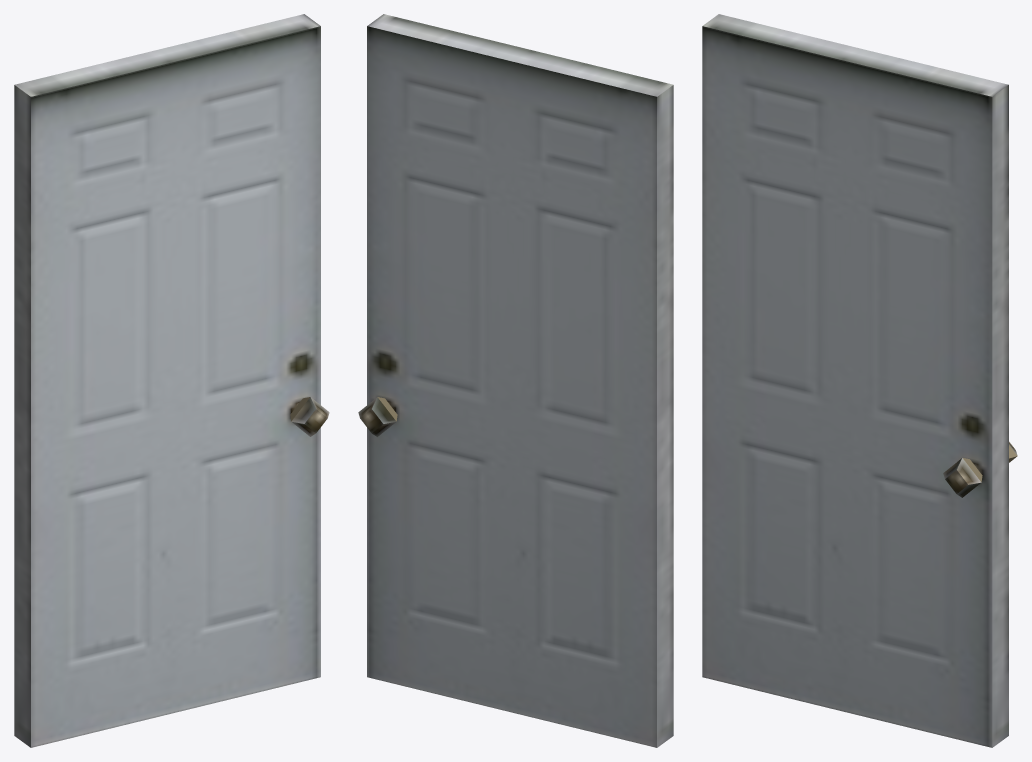
Rendered from Porte.fbx.
3 views of the same model, side by side, from view 1: azimuth 30°, elevation 25°; view 2: azimuth 150°, elevation 25°; view 3: azimuth 330°, elevation 25° (orthographic).
Parts seen in each view (by area): view 1: Cube; view 2: Cube; view 3: Cube.
Boxes of the visible parts, x1,y1,x2,y2 form: Cube: (14, 14, 329, 747); Cube: (358, 14, 673, 747); Cube: (702, 14, 1017, 747).
Size of the model in its own units: 240 by 515 by 68.1.
